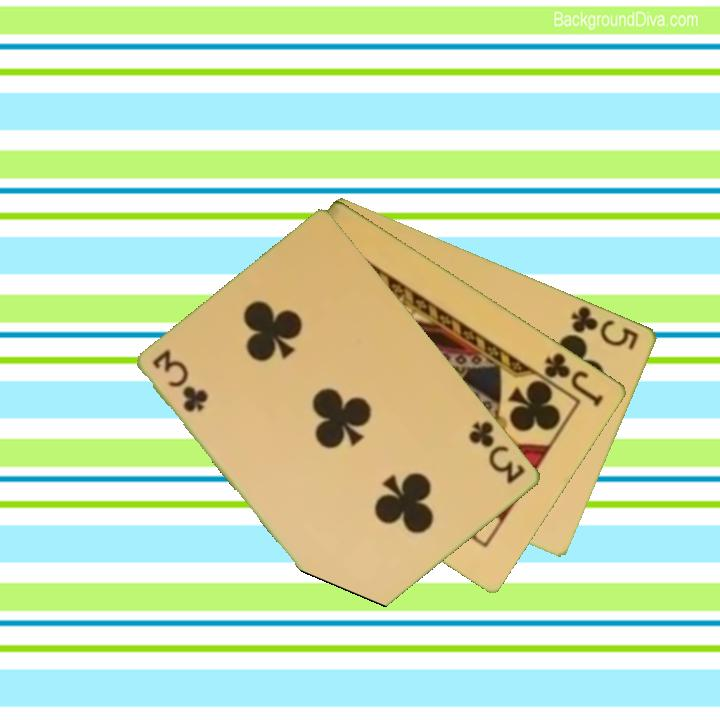3c: (465, 417, 529, 487), (149, 346, 211, 416)
5c: (568, 302, 642, 353)
Jc: (540, 348, 607, 410)
